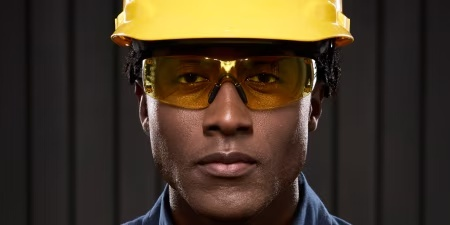safety_goggles: (113, 45, 347, 113)
